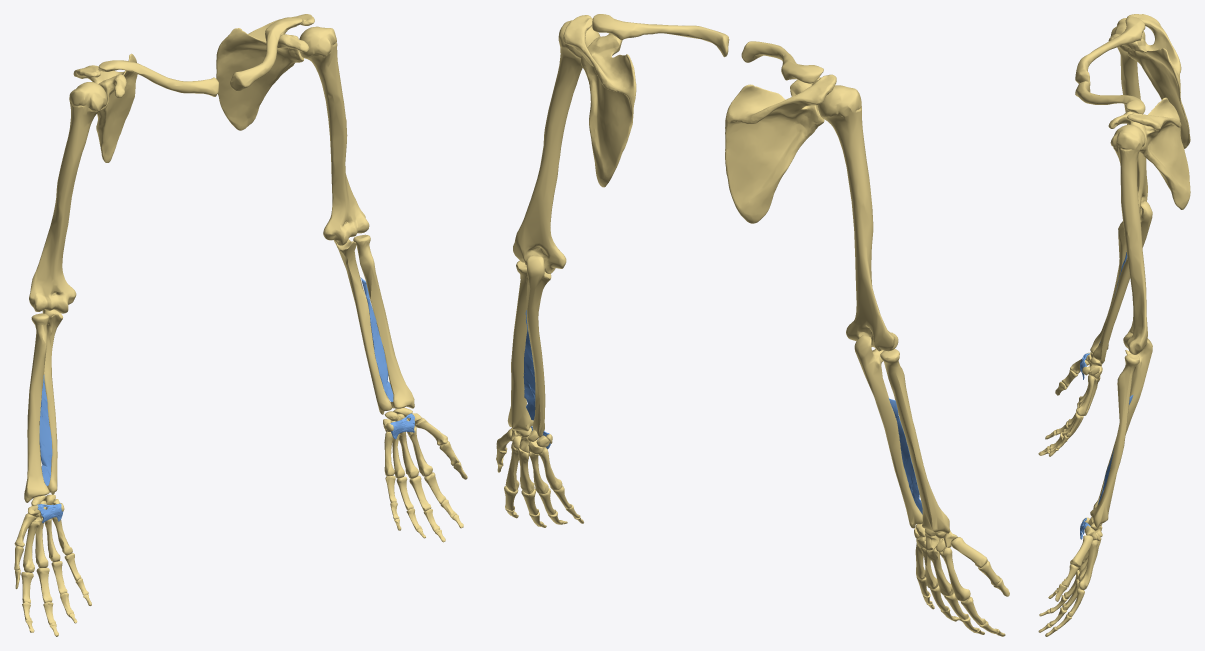
3 views of the same model, side by side, from view 1: azimuth 30°, elevation 25°; view 2: azimuth 150°, elevation 25°; view 3: azimuth 270°, elevation 25° (orthographic). The views are drawn at different scales.
Parts seen in each view (by area): view 1: shoulder:humerus:isa:FJ3368, shoulder:humerus:isa:FJ3262, shoulder:scapula:isa:FJ3279, shoulder:scapula:isa:FJ3384, wrist-hand:radius:isa:FJ3349, wrist-hand:radius:isa:FJ3277, elbow-forearm:ulna:isa:FJ3286, elbow-forearm:ulna:isa:FJ3391, shoulder:clavicle:isa:FJ3362, shoulder:clavicle:isa:FJ3237, supplemental:interosseous-membrane-of-forearm:isa:FJ1476, supplemental:interosseous-membrane-of-forearm:isa:FJ1476M; view 2: shoulder:scapula:isa:FJ3384, shoulder:humerus:isa:FJ3368, shoulder:scapula:isa:FJ3279, shoulder:humerus:isa:FJ3262, wrist-hand:radius:isa:FJ3349, elbow-forearm:ulna:isa:FJ3391, elbow-forearm:ulna:isa:FJ3286, wrist-hand:radius:isa:FJ3277, shoulder:clavicle:isa:FJ3237, shoulder:clavicle:isa:FJ3362, supplemental:interosseous-membrane-of-forearm:isa:FJ1476, supplemental:interosseous-membrane-of-forearm:isa:FJ1476M; view 3: shoulder:humerus:isa:FJ3262, shoulder:scapula:isa:FJ3279, shoulder:scapula:isa:FJ3384, wrist-hand:radius:isa:FJ3277, shoulder:humerus:isa:FJ3368, elbow-forearm:ulna:isa:FJ3391, shoulder:clavicle:isa:FJ3362, elbow-forearm:ulna:isa:FJ3286, shoulder:clavicle:isa:FJ3237, wrist-hand:radius:isa:FJ3349, wrist-hand:second-metacarpal-bone:isa:FJ3243, wrist-hand:first-metacarpal-bone:isa:FJ3240 (+1 smaller).
Boxes of the visible parts, x1,y1,x2,y2 form: shoulder:humerus:isa:FJ3368: [29, 82, 107, 313]; shoulder:humerus:isa:FJ3262: [299, 26, 369, 245]; shoulder:scapula:isa:FJ3279: [216, 14, 314, 130]; shoulder:scapula:isa:FJ3384: [73, 53, 137, 162]; wrist-hand:radius:isa:FJ3349: [24, 313, 49, 502]; wrist-hand:radius:isa:FJ3277: [353, 234, 414, 408]; elbow-forearm:ulna:isa:FJ3286: [333, 239, 391, 414]; elbow-forearm:ulna:isa:FJ3391: [42, 309, 62, 494]; shoulder:clavicle:isa:FJ3362: [98, 60, 218, 96]; shoulder:clavicle:isa:FJ3237: [230, 17, 302, 91]; supplemental:interosseous-membrane-of-forearm:isa:FJ1476: [39, 374, 52, 486]; supplemental:interosseous-membrane-of-forearm:isa:FJ1476M: [361, 278, 393, 401]; shoulder:scapula:isa:FJ3384: [725, 74, 836, 223]; shoulder:humerus:isa:FJ3368: [818, 85, 898, 351]; shoulder:scapula:isa:FJ3279: [563, 15, 636, 187]; shoulder:humerus:isa:FJ3262: [513, 20, 600, 273]; wrist-hand:radius:isa:FJ3349: [880, 349, 950, 533]; elbow-forearm:ulna:isa:FJ3391: [854, 335, 922, 528]; elbow-forearm:ulna:isa:FJ3286: [526, 255, 551, 437]; wrist-hand:radius:isa:FJ3277: [507, 260, 533, 431]; shoulder:clavicle:isa:FJ3237: [592, 14, 729, 57]; shoulder:clavicle:isa:FJ3362: [741, 41, 823, 83]; supplemental:interosseous-membrane-of-forearm:isa:FJ1476: [888, 398, 922, 514]; supplemental:interosseous-membrane-of-forearm:isa:FJ1476M: [523, 310, 535, 420]; shoulder:humerus:isa:FJ3262: [1110, 124, 1147, 354]; shoulder:scapula:isa:FJ3279: [1108, 97, 1190, 209]; shoulder:scapula:isa:FJ3384: [1108, 14, 1190, 148]; wrist-hand:radius:isa:FJ3277: [1090, 354, 1139, 527]; shoulder:humerus:isa:FJ3368: [1110, 18, 1147, 217]; elbow-forearm:ulna:isa:FJ3391: [1093, 201, 1152, 363]; shoulder:clavicle:isa:FJ3362: [1075, 16, 1145, 86]; elbow-forearm:ulna:isa:FJ3286: [1093, 338, 1152, 508]; shoulder:clavicle:isa:FJ3237: [1075, 81, 1145, 114]; wrist-hand:radius:isa:FJ3349: [1090, 221, 1126, 352]; wrist-hand:second-metacarpal-bone:isa:FJ3243: [1078, 540, 1097, 590]; wrist-hand:first-metacarpal-bone:isa:FJ3240: [1070, 535, 1092, 567].
Bounding box in the file's own units: 0.6478 × 0.7024 × 0.2005.
